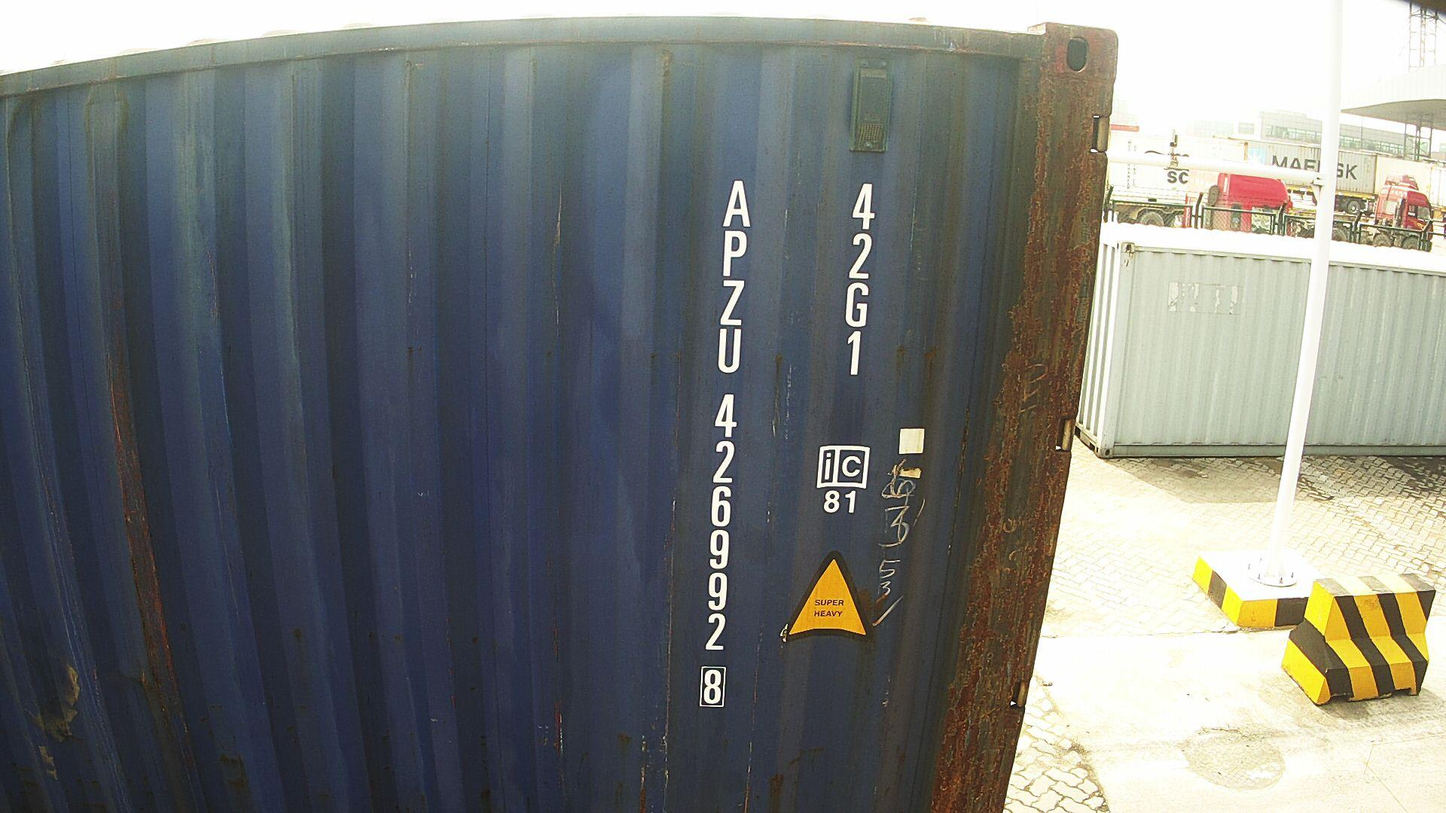container-numbers: (692, 174, 753, 710), (834, 178, 884, 383)
